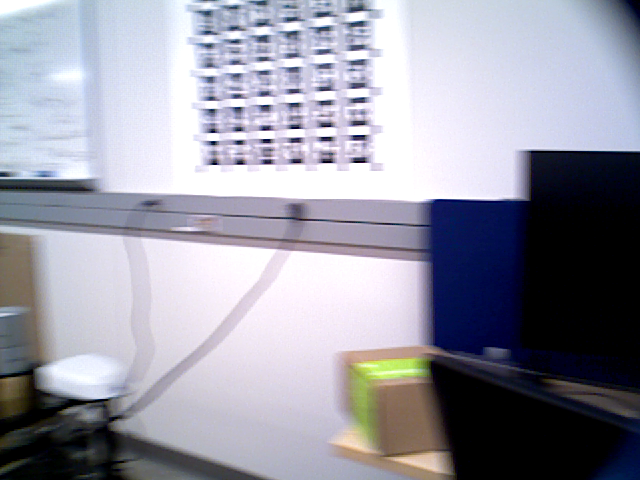painting4: (174, 1, 409, 202)
